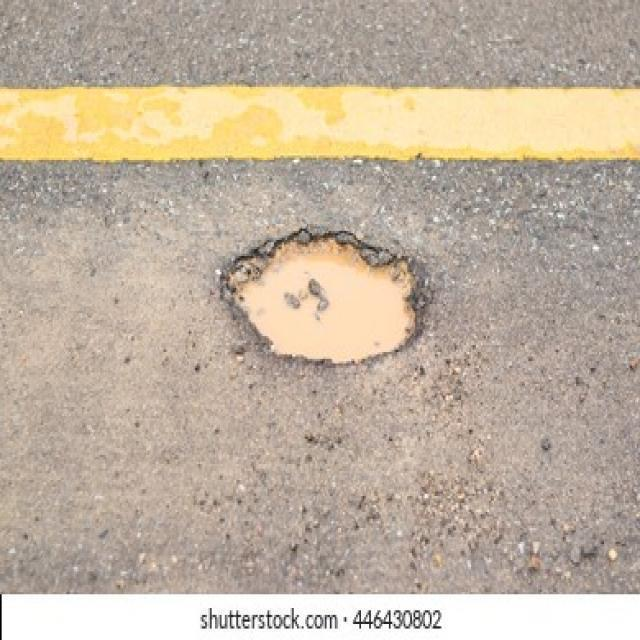Pothole: (210, 217, 430, 364)
